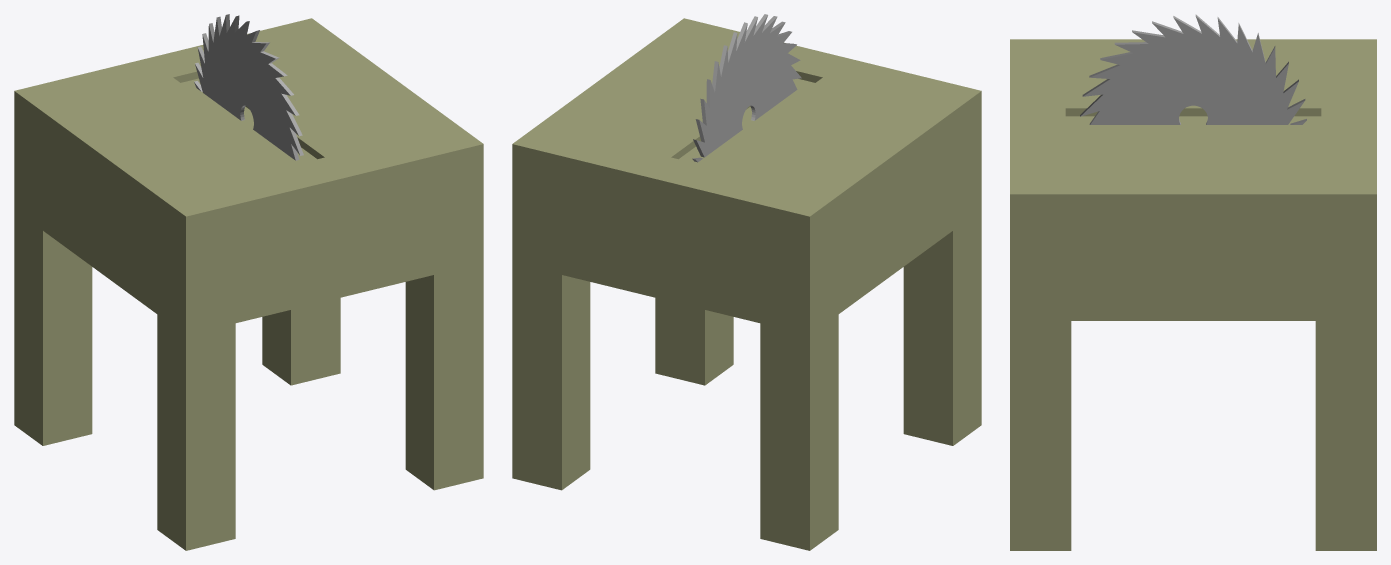
The model's file is SM_TableSaw_Animated.fbx.
The picture shows the model from 3 angles, left to right: view 1: azimuth 30°, elevation 25°; view 2: azimuth 150°, elevation 25°; view 3: azimuth 270°, elevation 25°; orthographic projection. The views are drawn at different scales.
Visible parts, largest first — view 1: SM_TableSaw.001; view 2: SM_TableSaw.001; view 3: SM_TableSaw.001.
Boxes of the visible parts, x1=… form: SM_TableSaw.001: x1=14, y1=14, x2=483, y2=550; SM_TableSaw.001: x1=512, y1=14, x2=981, y2=550; SM_TableSaw.001: x1=1010, y1=14, x2=1376, y2=550.
Size of the model in its own units: 100 by 138 by 100.
